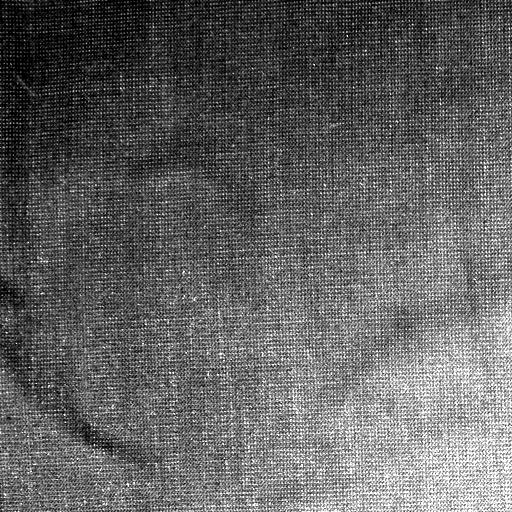fabric_perfect: (7, 0, 512, 507)
